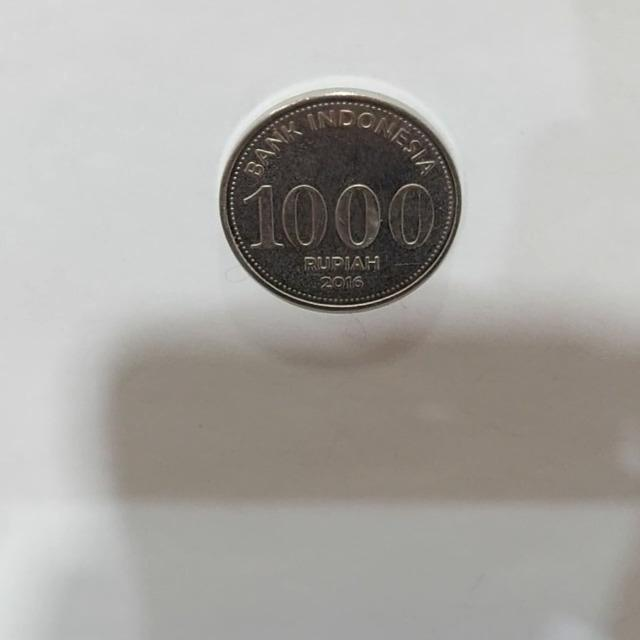Rp100: (217, 84, 462, 313)
